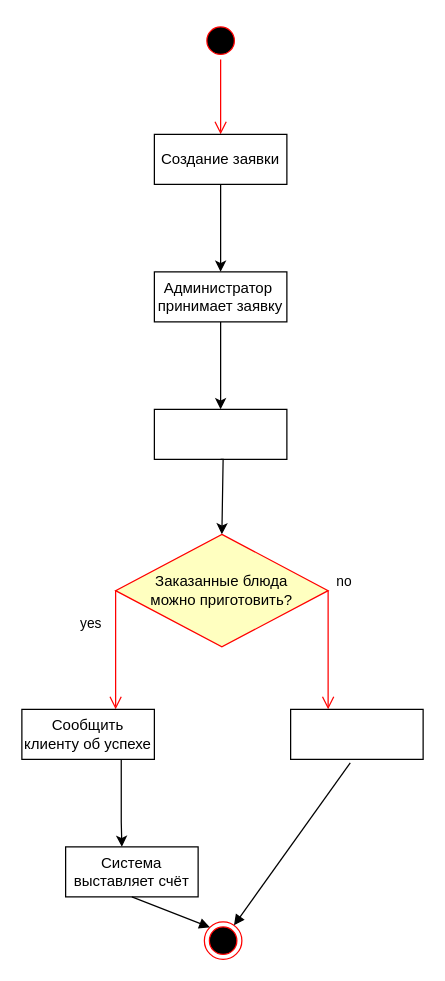
Some shapes in this 445 by 981 pixel diagram are drawn without their labels. Each missing label, with the centre of its shape:
Администратор передаёт заказ на кухню: (220,433)
Сообщить клиенту о проблеме: (356,733)
